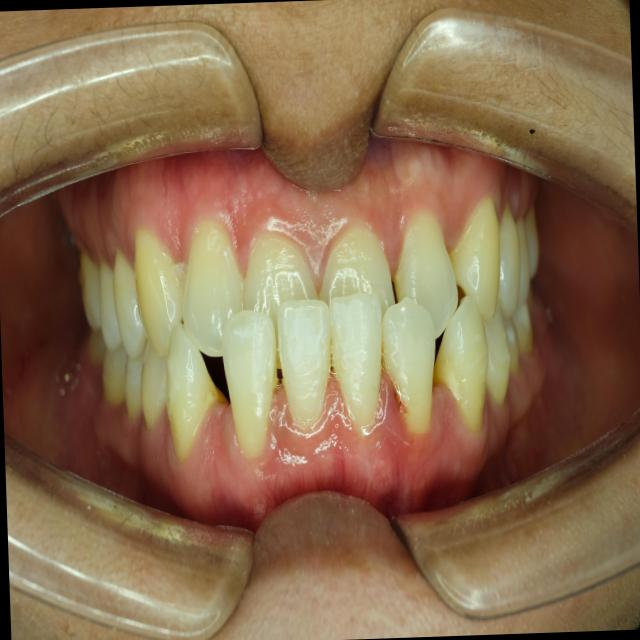Tooth: (242, 238, 319, 369), (165, 321, 224, 461), (392, 216, 458, 340), (182, 222, 242, 357), (222, 309, 277, 453), (432, 295, 488, 431), (381, 297, 435, 433), (318, 229, 395, 322), (329, 292, 381, 427), (277, 299, 331, 422), (134, 228, 184, 357), (449, 197, 500, 321), (112, 250, 147, 358), (482, 301, 510, 405), (497, 202, 521, 318), (140, 338, 168, 428), (99, 261, 122, 350), (124, 341, 146, 418), (80, 253, 100, 330), (102, 340, 127, 401), (515, 219, 531, 310), (523, 206, 539, 277), (511, 304, 534, 353), (502, 316, 518, 374)
